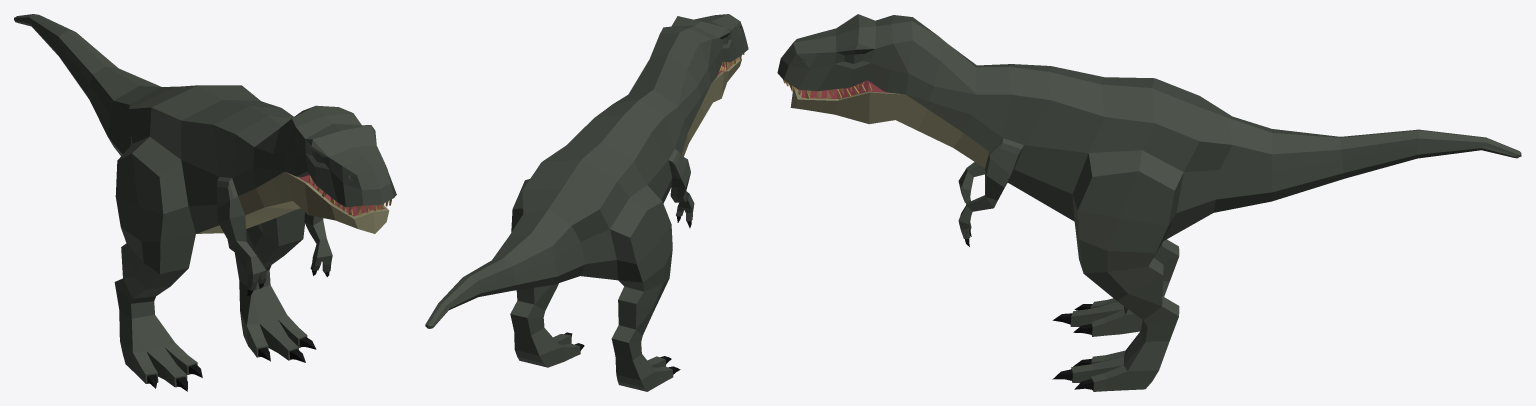
The model's file is t-rex.glb.
The picture shows the model from 3 angles, left to right: view 1: azimuth 30°, elevation 25°; view 2: azimuth 150°, elevation 25°; view 3: azimuth 270°, elevation 25°; orthographic projection. The views are drawn at different scales.
Visible parts, largest first — view 1: Trex; view 2: Trex; view 3: Trex.
Boxes of the visible parts, x1,y1,x2,y2 form: Trex: (14,14,396,391); Trex: (425,14,748,391); Trex: (777,14,1521,391).
Bounding box in the file's own units: 0.5128 × 0.9813 × 2.
